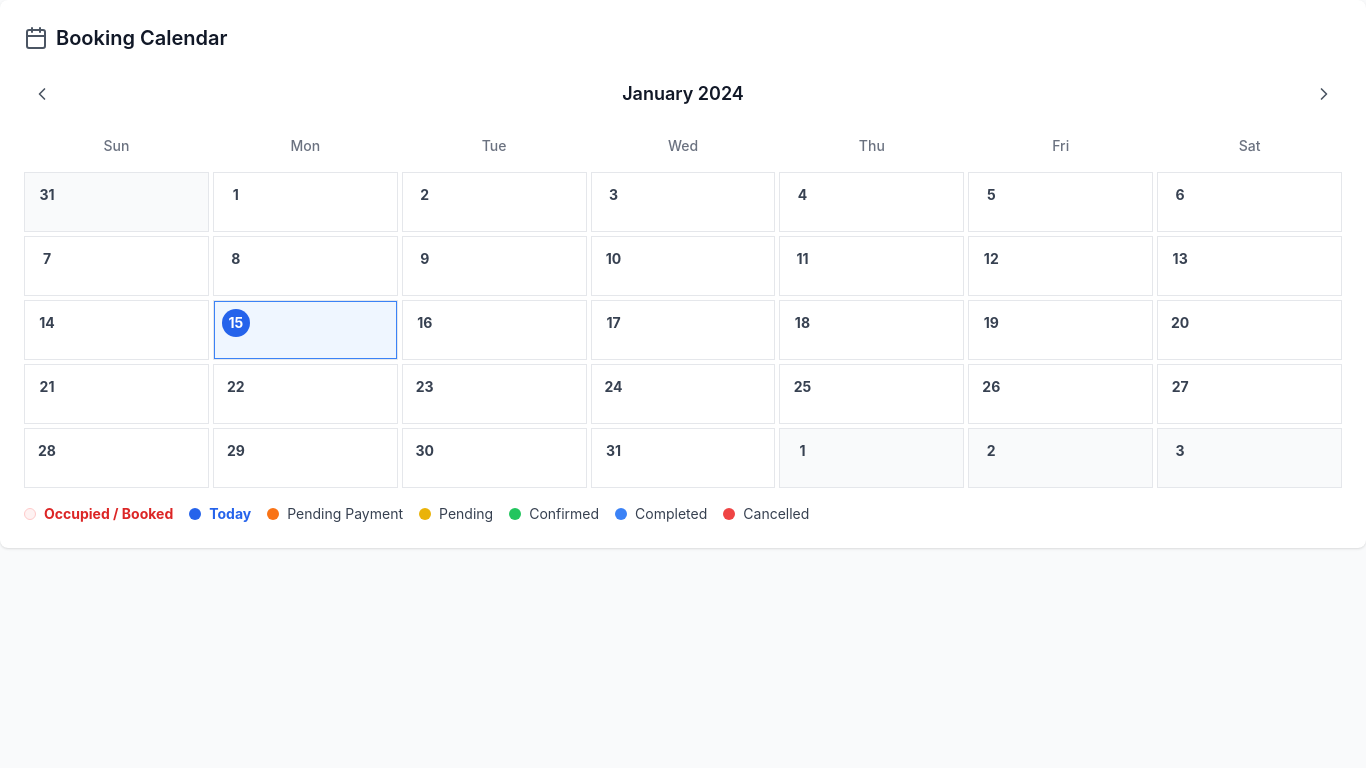
Test: BookingCalendar Properties Tests - Task 5.6 › Property: Calendar navigation works correctly
Expected: the button named "Previous month" is shown, [24,76,60,112]
Expected: the heading "January 2024" is shown, [622,80,744,108]
# Property: Next button changes month
Click the button named "Next month". click: (1324, 94)
box: [1306,76,1342,112]
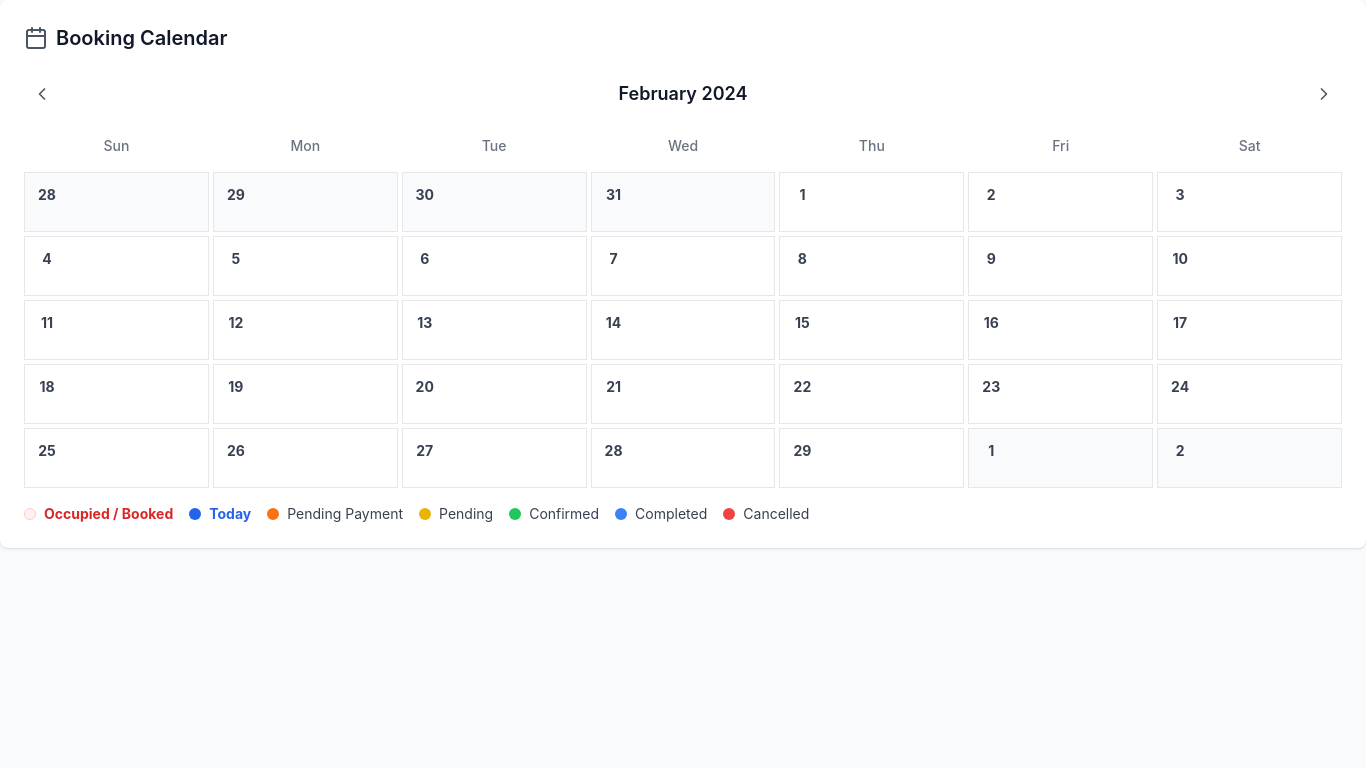
Now the heading "February 2024" is shown, box [618,80,748,108]
# Property: Previous button changes month
Click the button named "Previous month". click: (42, 94)
box: [24,76,60,112]
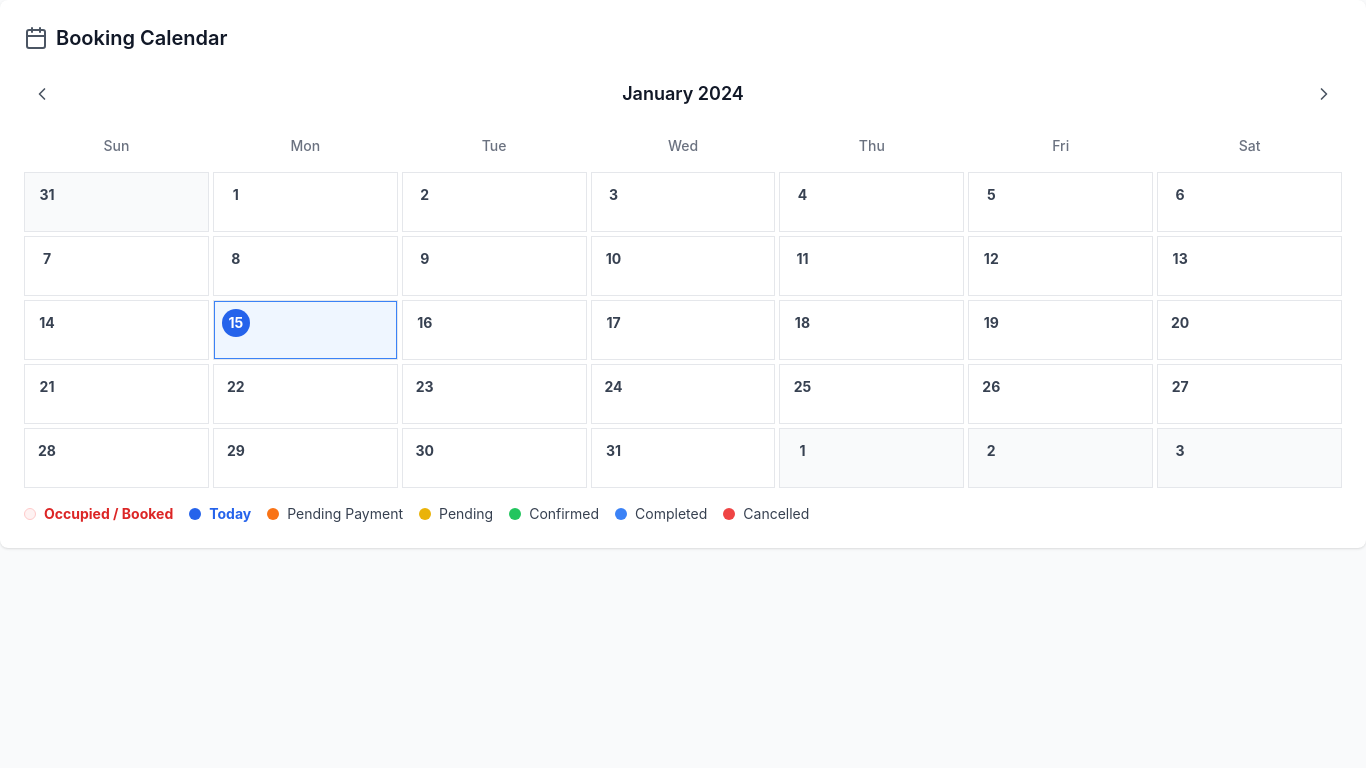
Now the heading "January 2024" is shown, box [622,80,744,108]
